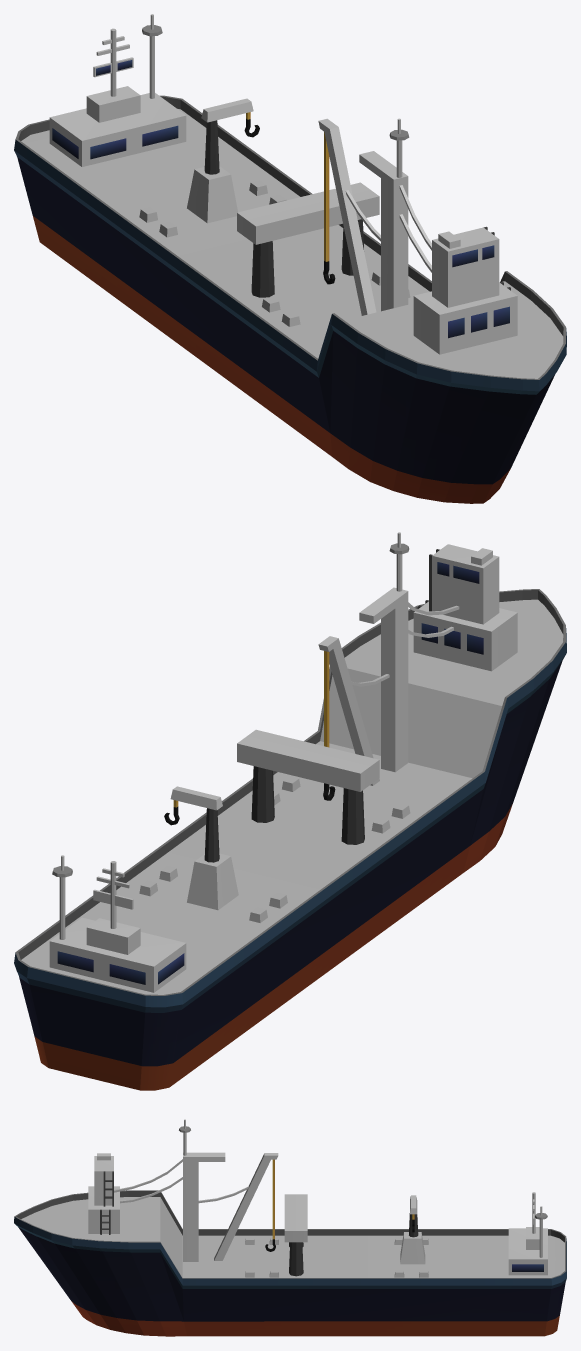
Rendered from ship1.glb.
3 renders of one model, top to bottom at view 1: azimuth 30°, elevation 25°; view 2: azimuth 150°, elevation 25°; view 3: azimuth 270°, elevation 25°, orthographic. The views are drawn at different scales.
Visible parts, largest first — view 1: tugboat; view 2: tugboat; view 3: tugboat.
Boxes of the visible parts, x1,y1,x2,y2 form: tugboat: [14, 14, 566, 503]; tugboat: [14, 532, 566, 1090]; tugboat: [14, 1119, 566, 1336].
Bounding box in the file's own units: 0.9607 × 1.67 × 4.26.
Materials: 1 (1 with a texture image).
